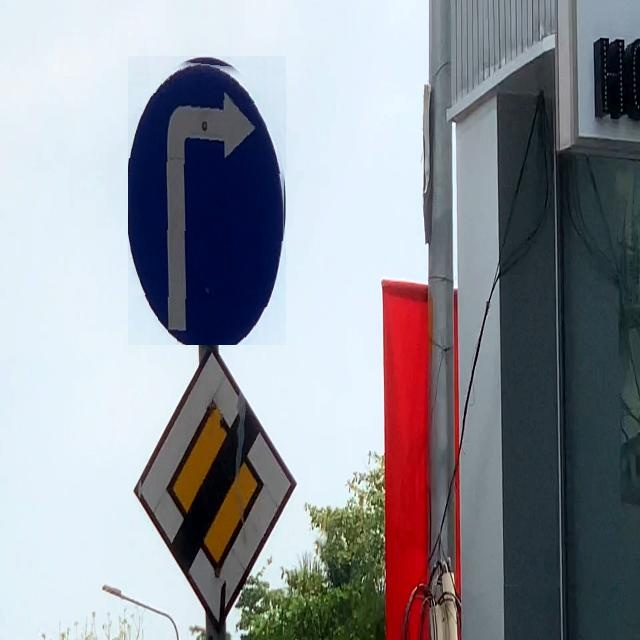bien_hieu_lenh: (128, 56, 286, 345)
